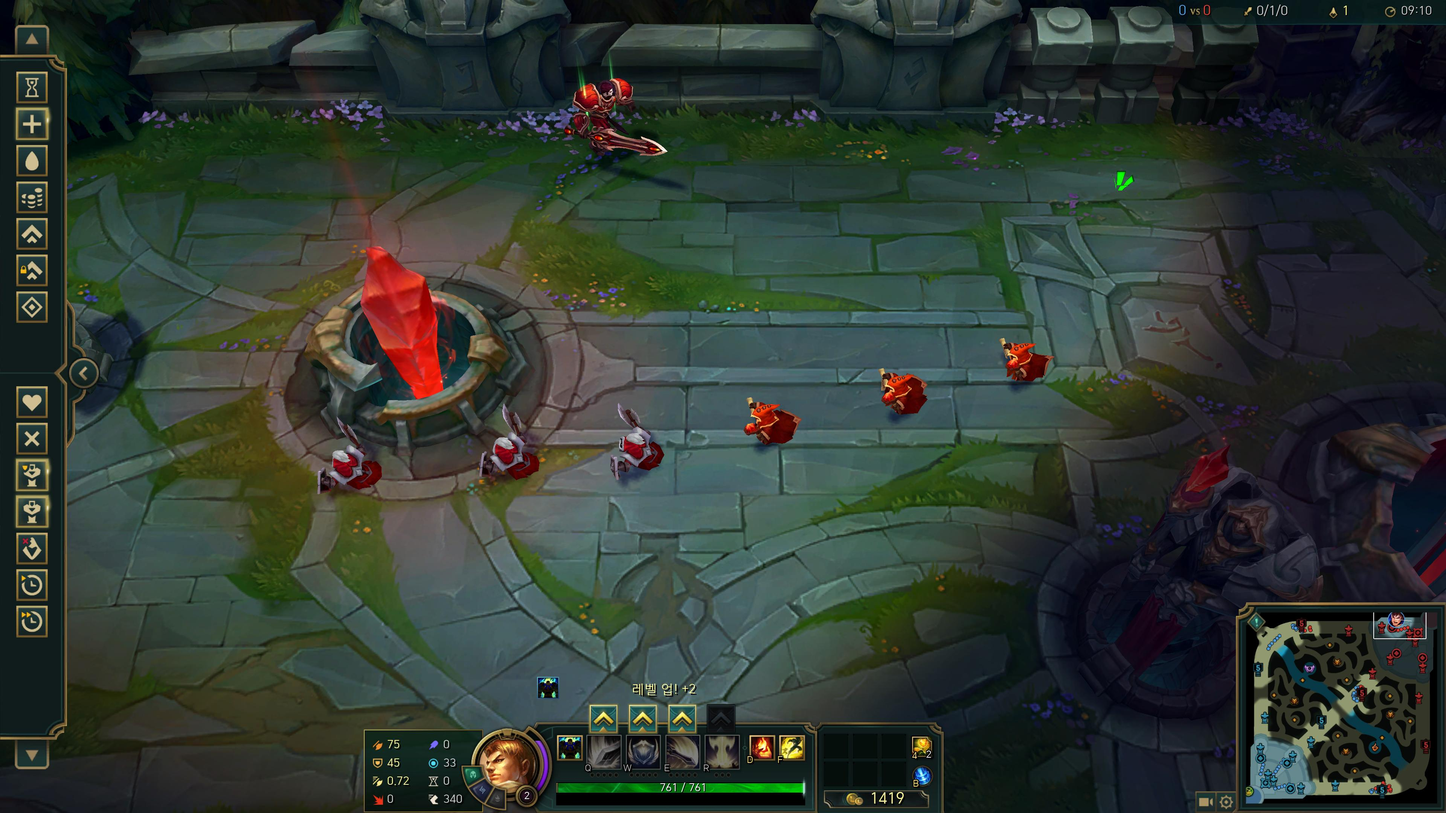enemy-caster-minion: (744, 396, 801, 443), (1001, 336, 1055, 380), (881, 367, 928, 413)
enemy-melee-minion: (316, 419, 381, 493), (479, 403, 539, 479), (611, 402, 664, 478)
